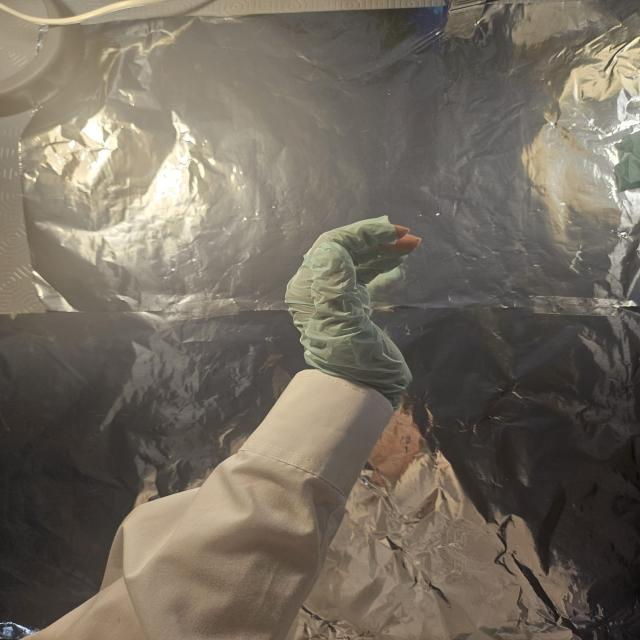gloves_damaged: (280, 211, 422, 413)
